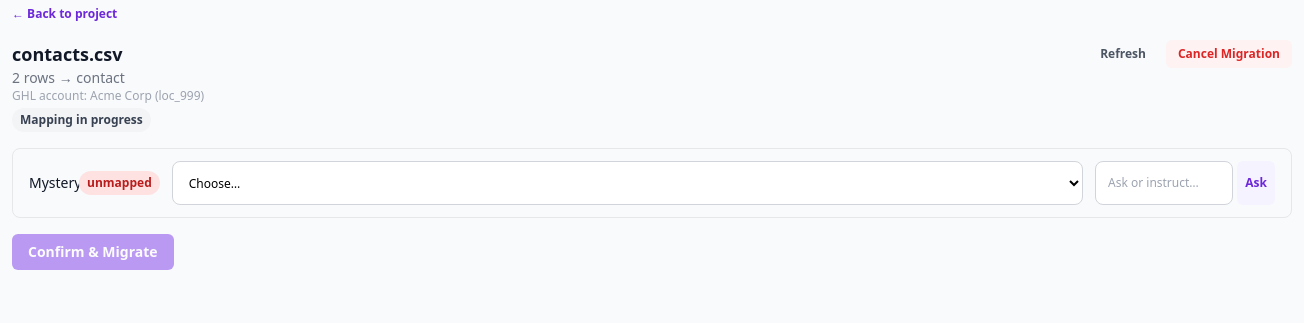
Test case: MappingReviewPage › surfaces a remap write error instead of silently leaving the column unchanged
Select "Ignore this column" in the dropdown named "map \"Mystery\" to" at (627,183), box [172,161,1083,205]
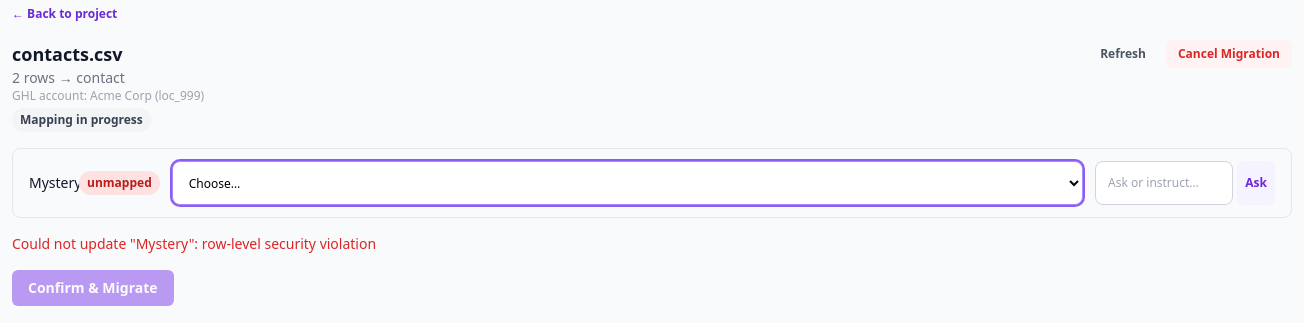
Expected: the message shows "row-level security violation", [12,234,376,253]
